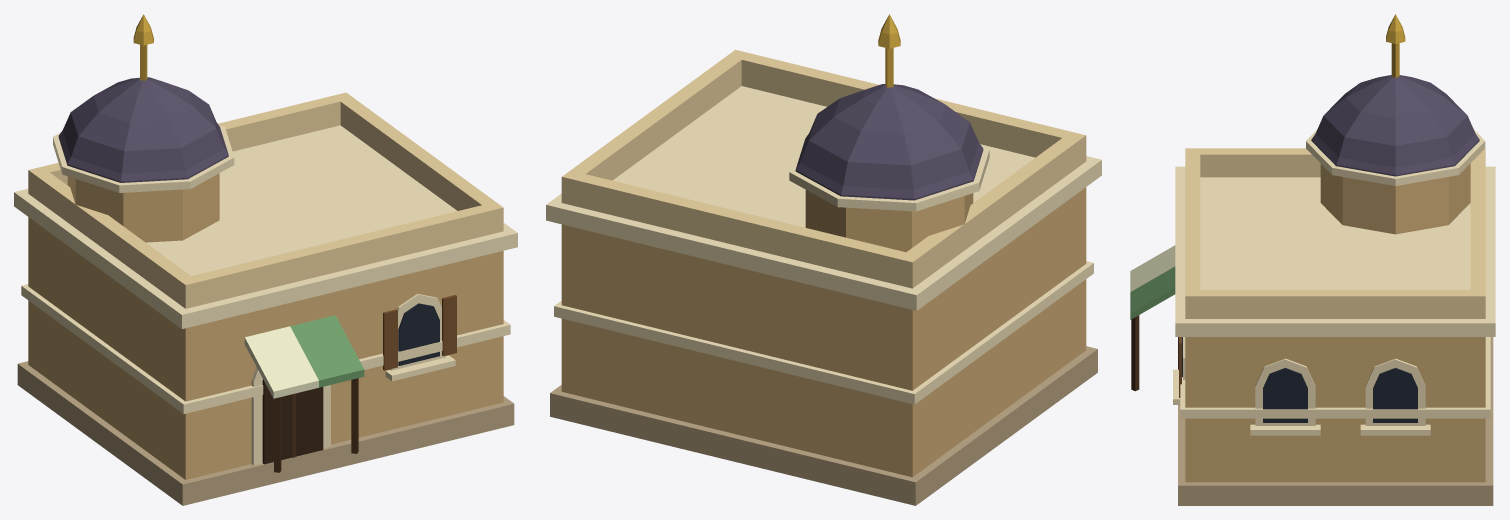
Rendered from house_02_dome_corner.fbx.
The picture shows the model from 3 angles, left to right: view 1: azimuth 30°, elevation 25°; view 2: azimuth 150°, elevation 25°; view 3: azimuth 270°, elevation 25°; orthographic projection. The views are drawn at different scales.
Parts seen in each view (by area): view 1: house_02_dome_corner; view 2: house_02_dome_corner; view 3: house_02_dome_corner.
Part boxes in pixels (x1,y1,x2,y2): house_02_dome_corner: [14, 14, 517, 505]; house_02_dome_corner: [546, 14, 1101, 505]; house_02_dome_corner: [1130, 14, 1495, 505].
Size of the model in its own units: 7.54 by 8.21 by 7.3.
1 material, 1 textured.
